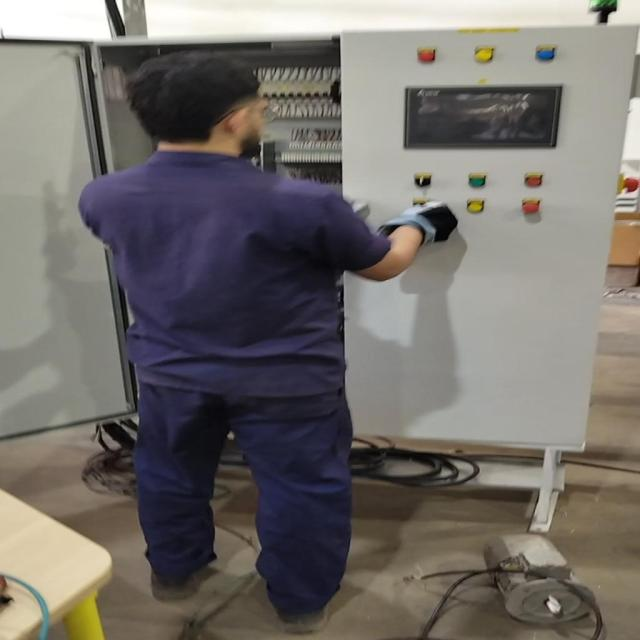Gloves-Detection: (379, 190, 460, 250)
